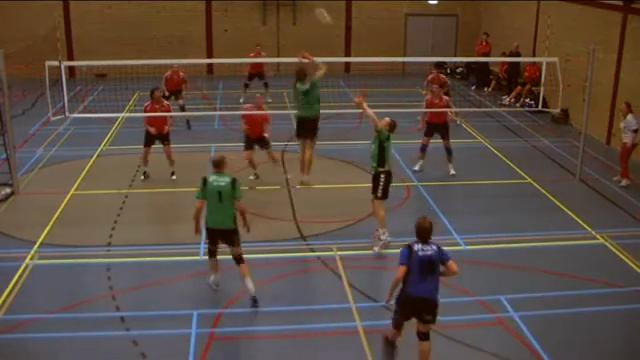alzata: (347, 90, 399, 258)
